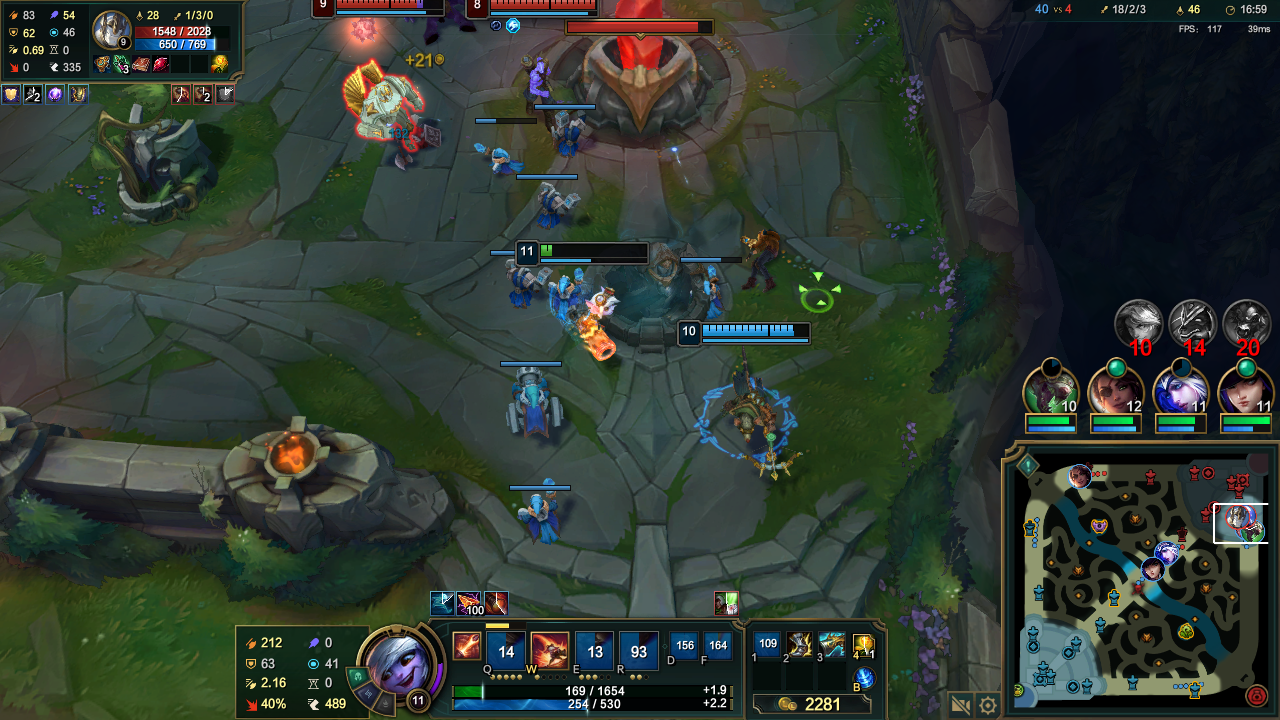DFSJ: (569, 16, 724, 146)
WFXB: (506, 470, 581, 549), (497, 370, 574, 443), (516, 169, 582, 227), (500, 255, 552, 320), (689, 266, 738, 317), (474, 133, 529, 175), (541, 265, 584, 316), (546, 112, 597, 155)
